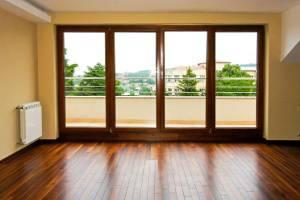window: (53, 23, 267, 141)
